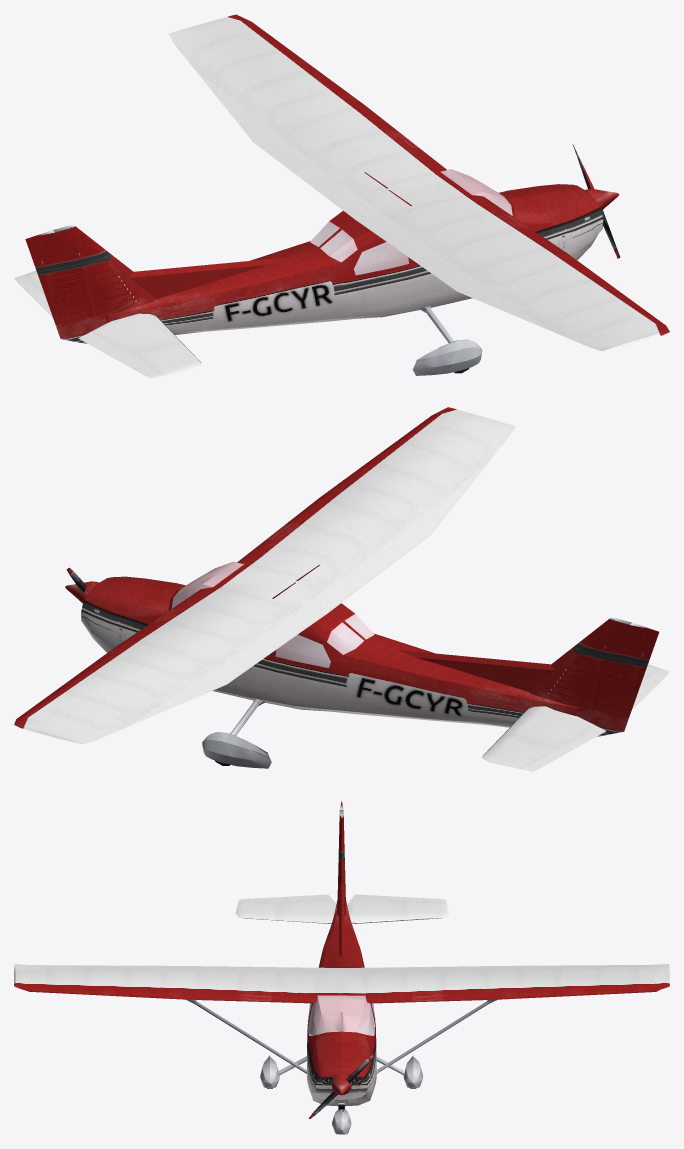
File: Cessna172_red.fbx
3 renders of one model, top to bottom at view 1: azimuth 30°, elevation 25°; view 2: azimuth 150°, elevation 25°; view 3: azimuth 270°, elevation 25°, orthographic. The views are drawn at different scales.
Visible parts, largest first — view 1: jour; view 2: jour; view 3: jour.
Boxes of the visible parts, x1,y1,x2,y2 form: jour: [14, 14, 669, 378]; jour: [14, 407, 669, 771]; jour: [14, 801, 669, 1134].
Size of the model in its own units: 8.69 by 2.71 by 11.01.
1 material, 1 textured.
